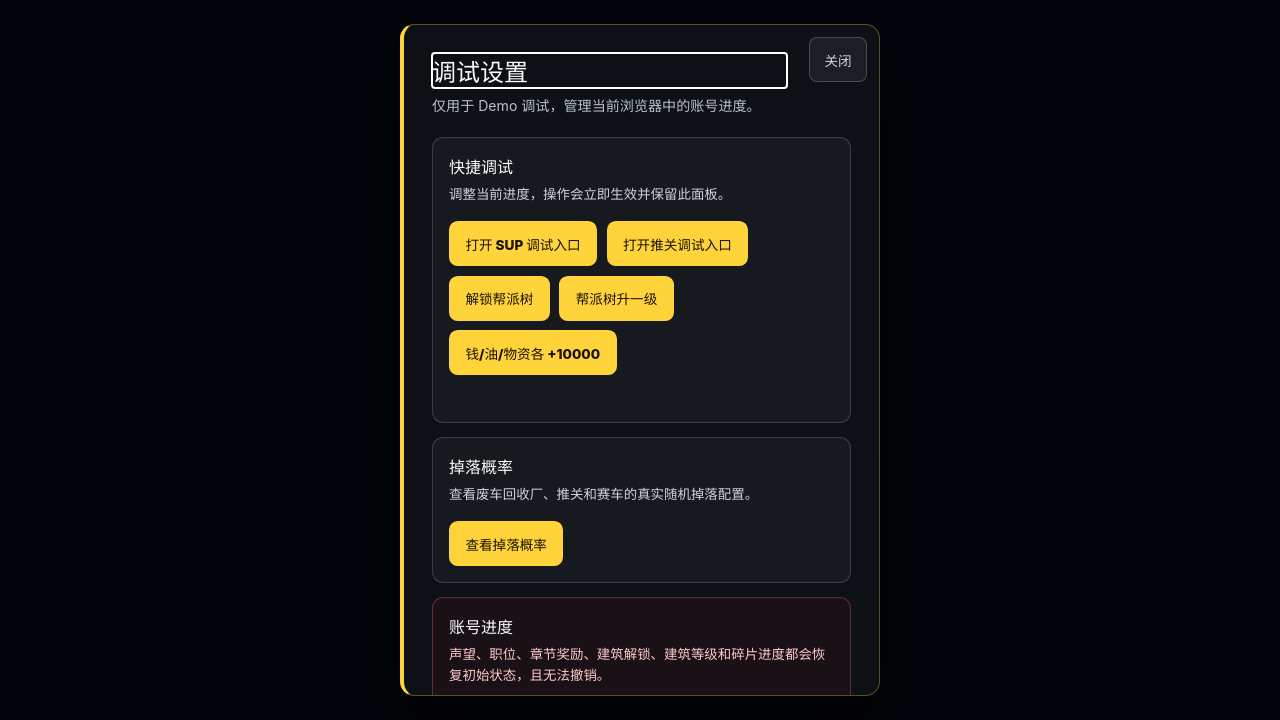
Test: SettingsPanel › advances one gang level and reveals the configured drop probabilities
Click the button "帮派树升一级": (616, 298) [559,276,674,321]
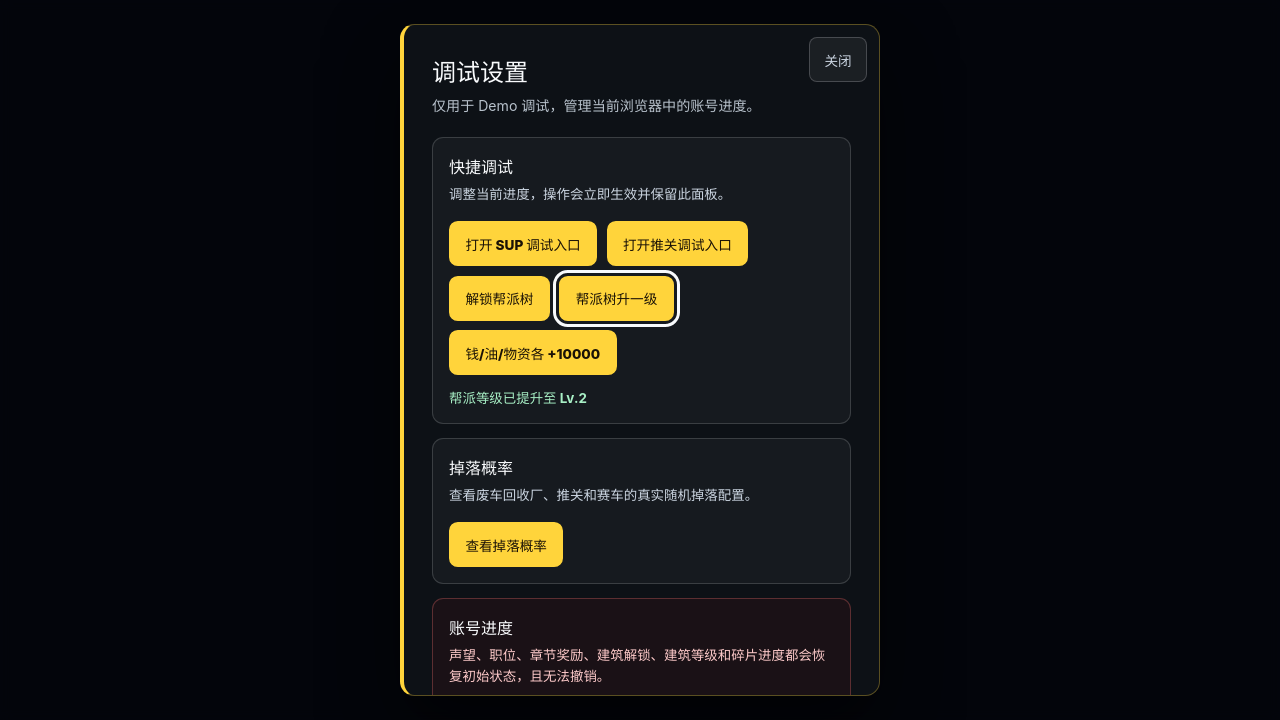
Expected: the text "帮派等级已提升至 Lv.2" is shown, [449,390,587,406]
Click the button "查看掉落概率": (506, 545) [449,522,563,567]
(page scrolled)
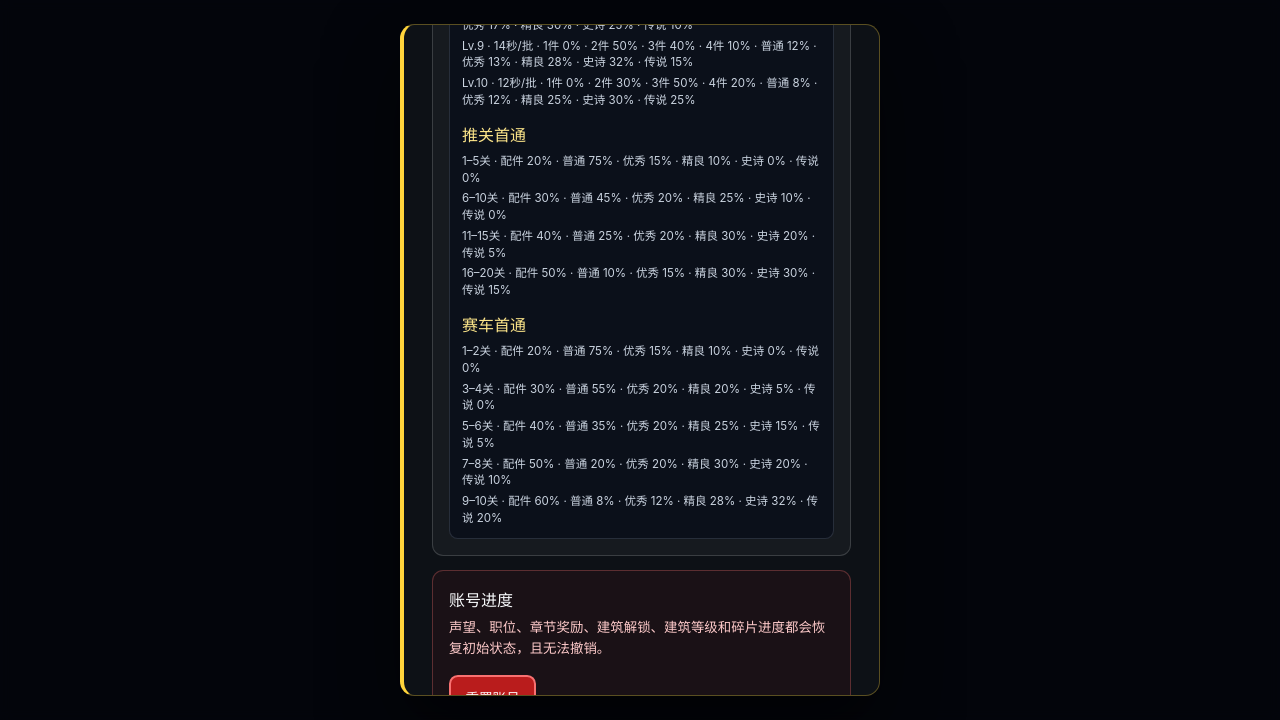
Expected: the list item "传说 25%" is shown, [462,76,817,107]
Expected: the element with class "settings-panel__probabilities" is shown, [449,24,834,539]
Expected: the list item "1–5关 · 配件 20% · 普通 75% · 优秀 15% · 精良 10% · 史诗 0% · 传说 0%" is shown, [462,153,821,186]
